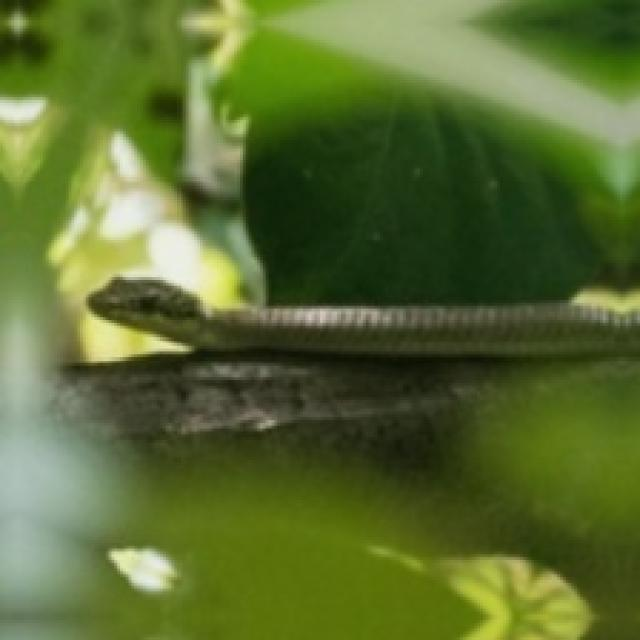paradise tree snake: (89, 277, 637, 354)
